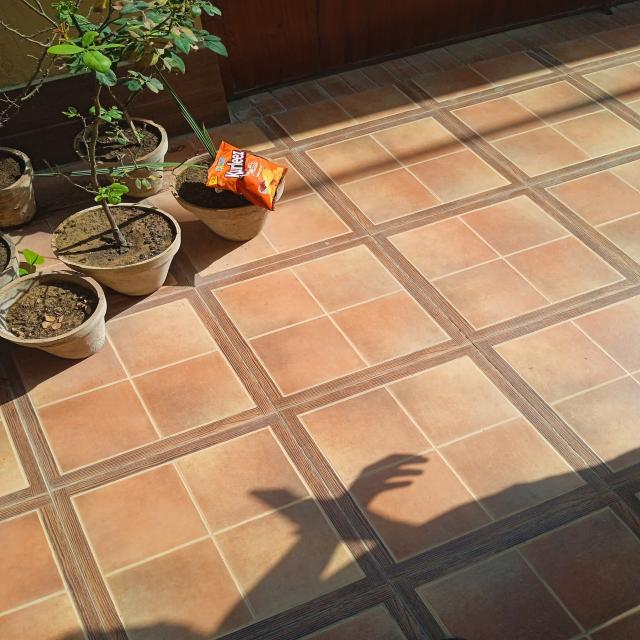Plastic: (198, 139, 289, 214)
